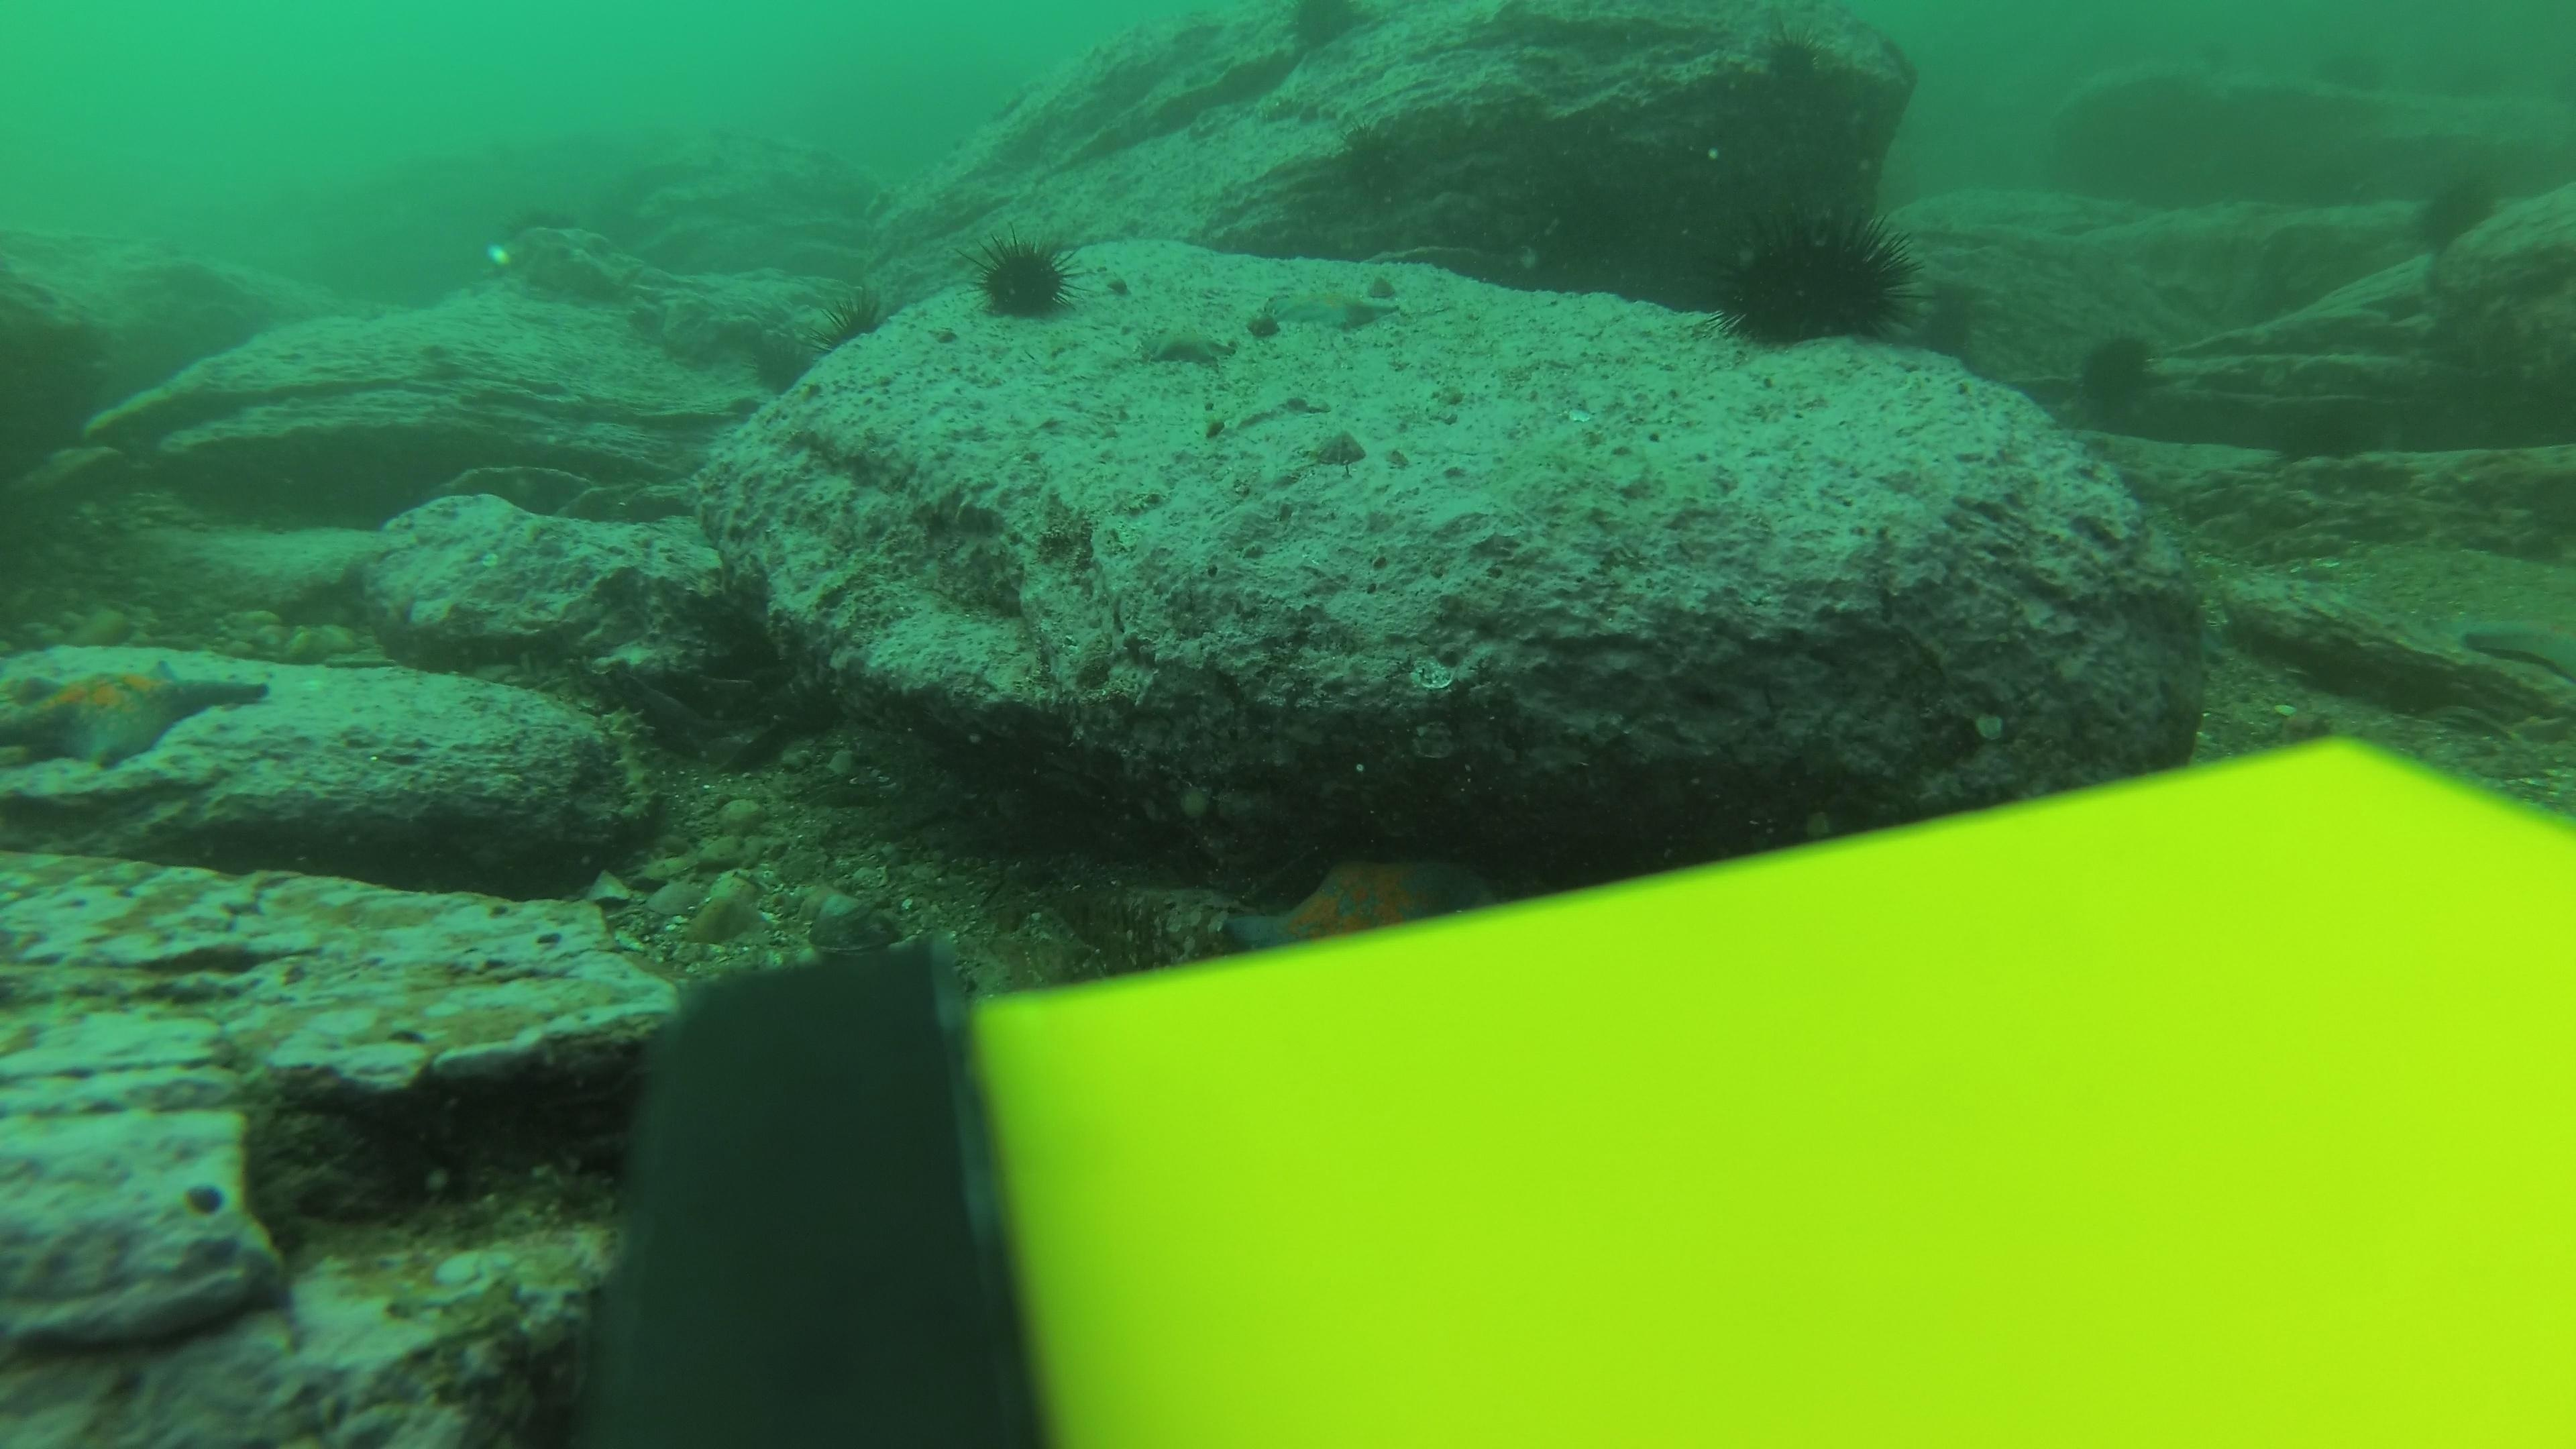echinus: (1702, 198, 1925, 357), (968, 216, 1088, 318), (2061, 326, 2169, 428), (2286, 23, 2388, 119), (2404, 165, 2507, 258), (835, 278, 938, 372), (1274, 0, 1380, 62)
starfish: (0, 646, 280, 780), (1214, 847, 1507, 948), (2449, 607, 2576, 686), (1258, 281, 1403, 340), (1134, 318, 1242, 373)
